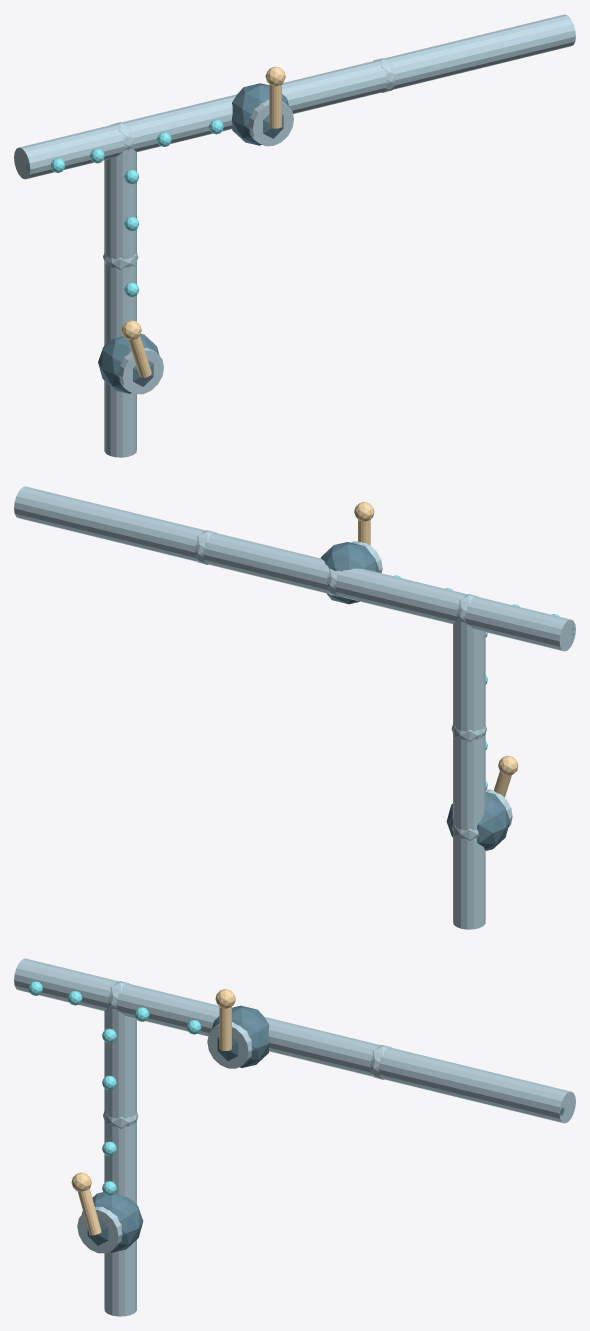
File: water-00-1.glb
The picture shows the model from 3 angles, top to bottom: view 1: azimuth 30°, elevation 25°; view 2: azimuth 150°, elevation 25°; view 3: azimuth 330°, elevation 25°; orthographic projection.
Parts seen in each view (by area): view 1: pipe, dark, handle, flow; view 2: pipe, dark, handle; view 3: pipe, dark, handle, flow.
Part boxes in pixels (x1,y1,x2,y2): pipe: [14, 14, 575, 457]; dark: [26, 83, 289, 393]; handle: [121, 66, 285, 377]; flow: [50, 119, 223, 297]; pipe: [14, 486, 575, 929]; dark: [321, 542, 574, 850]; handle: [354, 502, 518, 797]; pipe: [14, 958, 575, 1316]; dark: [82, 1005, 564, 1252]; handle: [71, 989, 235, 1235]; flow: [28, 981, 201, 1195].
Size of the model in its own units: 2.77 by 1.79 by 0.343.
